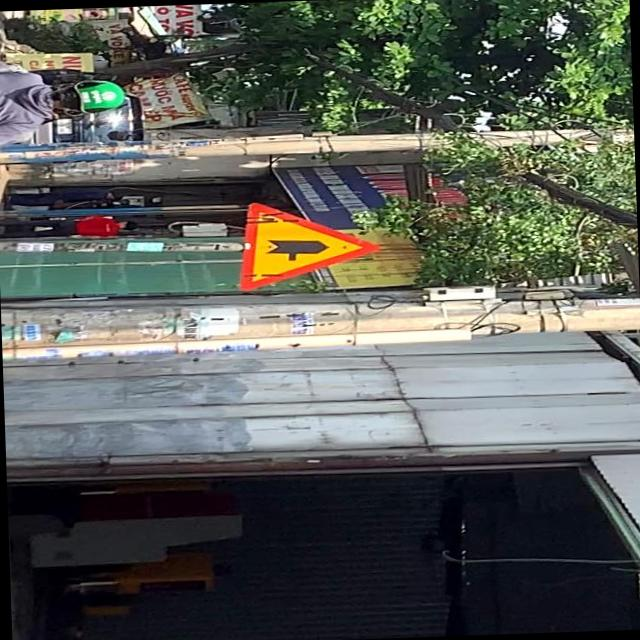W-207b: (234, 196, 382, 292)
